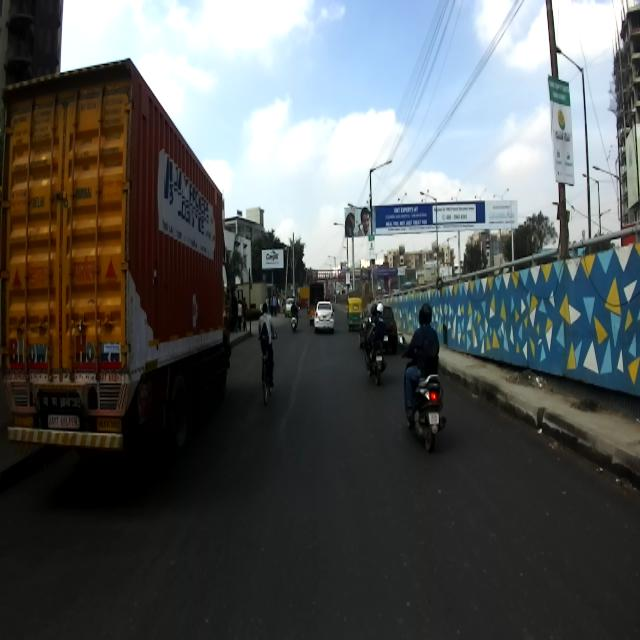bicycle ahead at: (258, 352, 282, 409)
motorcycle ahead at: (402, 369, 448, 458)
truck ahead at: (1, 66, 238, 498)
